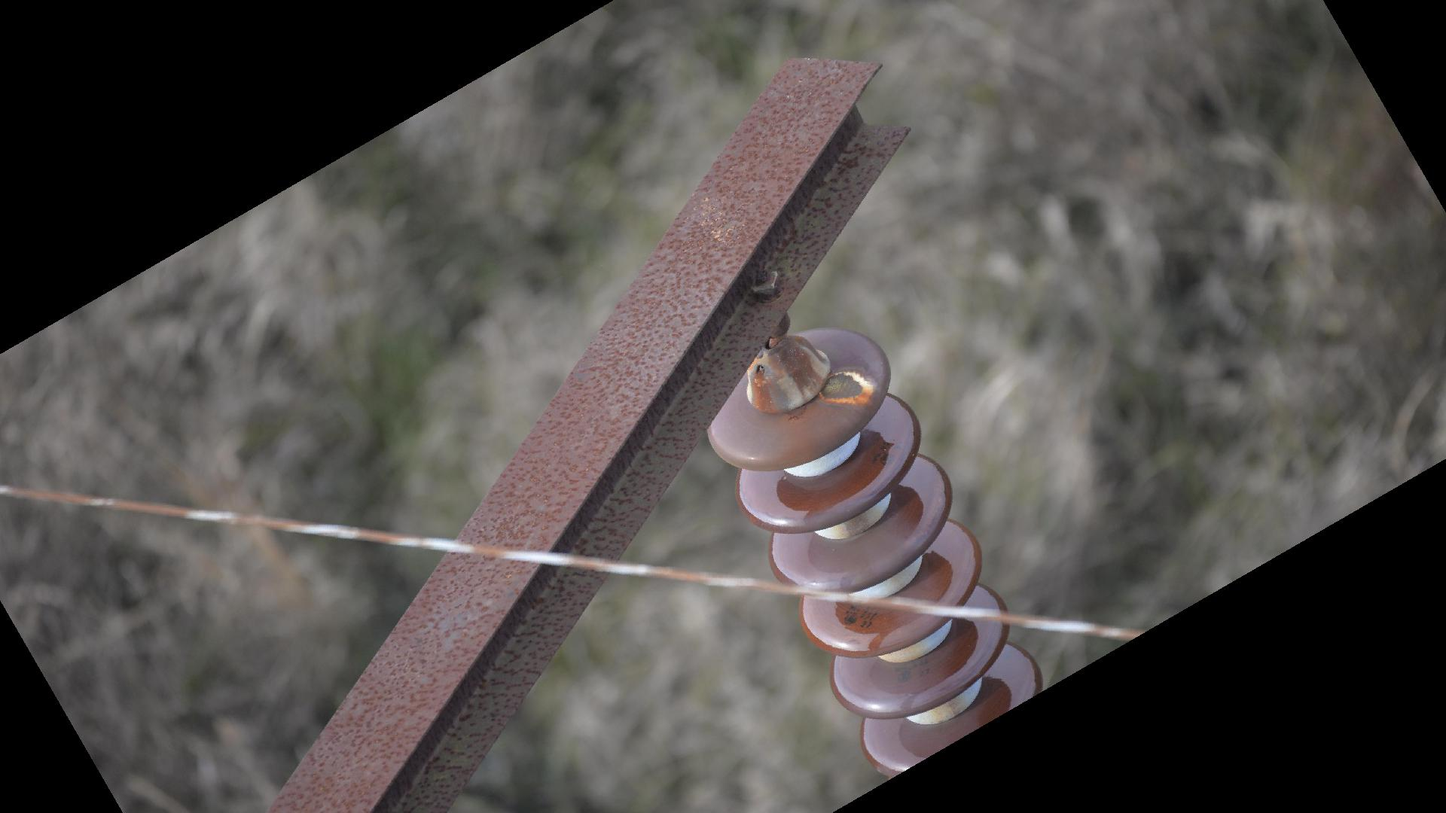insulator: (705, 319, 1049, 787)
insulator_flashover: (818, 364, 874, 409)
